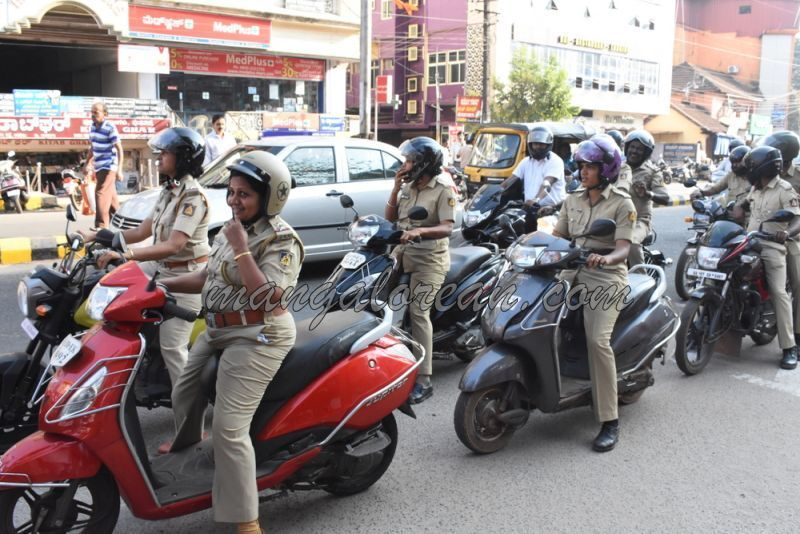with_helmet: (225, 152, 289, 218), (148, 127, 208, 169), (398, 136, 445, 179), (576, 136, 619, 182), (529, 127, 554, 156)
